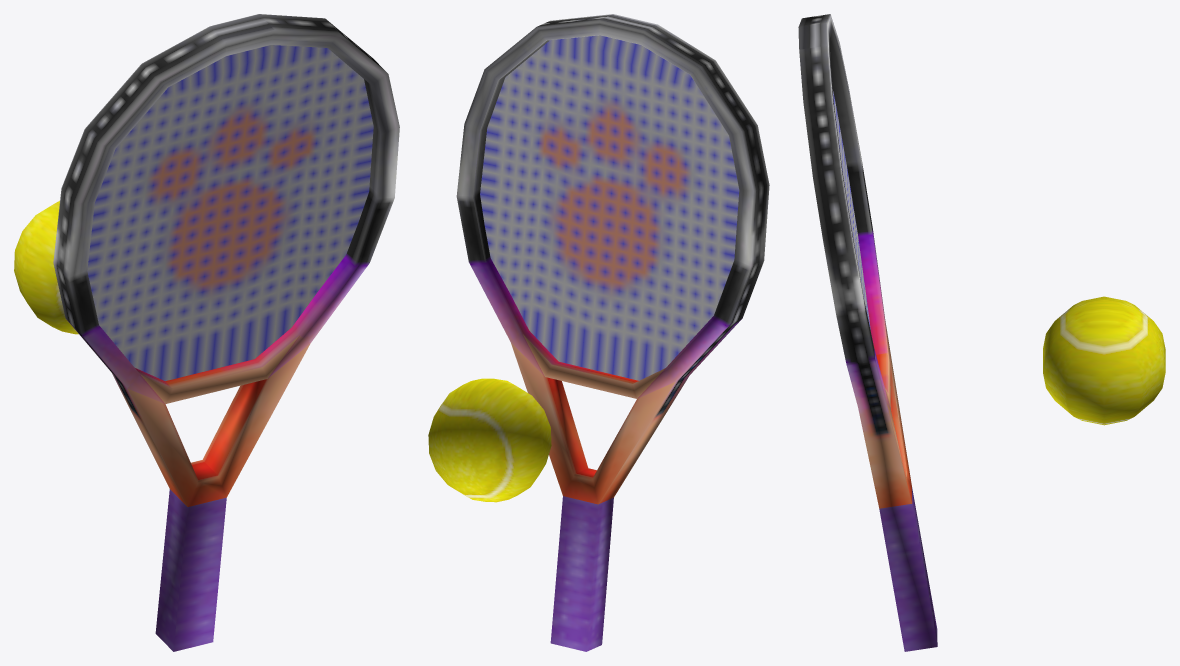
The model's file is static.ico.obj.
The picture shows the model from 3 angles, left to right: view 1: azimuth 30°, elevation 25°; view 2: azimuth 150°, elevation 25°; view 3: azimuth 270°, elevation 25°; orthographic projection. The views are drawn at different scales.
Size of the model in its own units: 1.83 by 3.52 by 1.92.
Materials: 1 (1 with a texture image).
